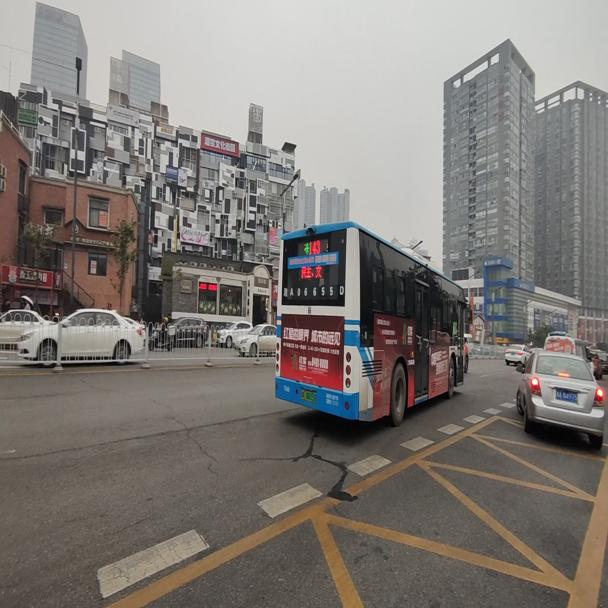bus: (272, 216, 467, 427)
screen: (306, 234, 322, 256)
